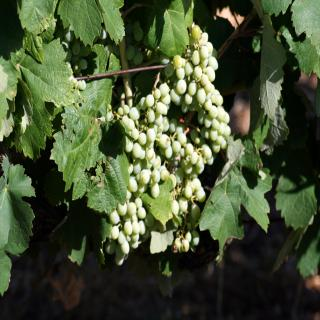Grape: (104, 25, 232, 264), (51, 24, 97, 110), (98, 22, 156, 72)
